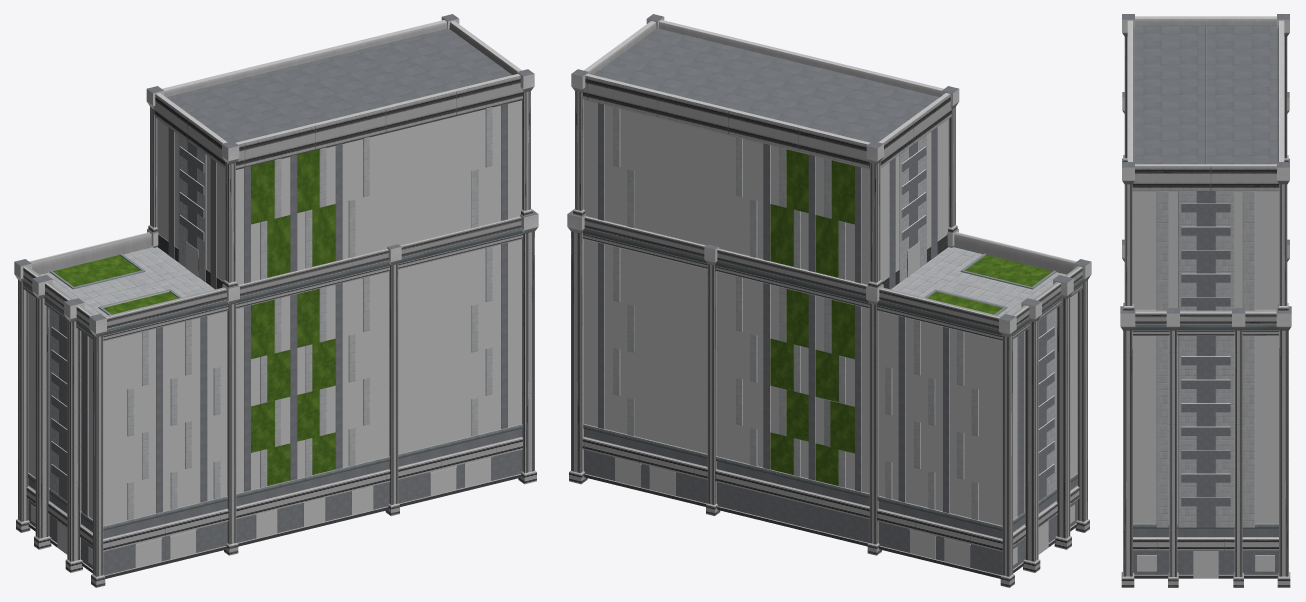
Rendered from HouseGX.fbx.
3 views of the same model, side by side, from view 1: azimuth 30°, elevation 25°; view 2: azimuth 150°, elevation 25°; view 3: azimuth 270°, elevation 25° (orthographic). The views are drawn at different scales.
Parts seen in each view (by area): view 1: House_GX; view 2: House_GX; view 3: House_GX.
Part boxes in pixels (x1=…): House_GX: x1=14, y1=14, x2=538, y2=587; House_GX: x1=567, y1=14, x2=1091, y2=587; House_GX: x1=1120, y1=14, x2=1291, y2=587.
Size of what is drawn, in the model's own units: 55.82 by 48.81 by 18.06.
